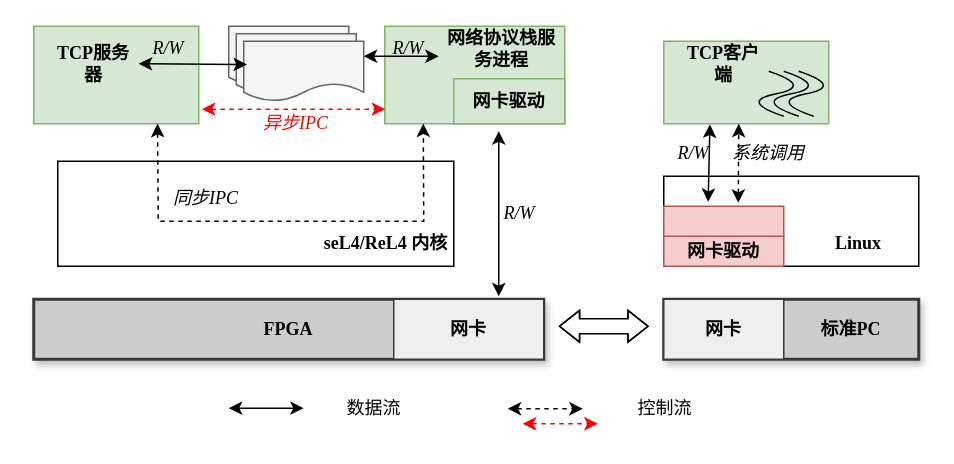
This 954x464 diagram has some shape labels left out. The shapes that lost their labels are listed below. From the top down, each one's centre as x and y in pixels, then its label:
At [303,70]: "共享缓冲区".
At [723,220]: "网络协议栈".
